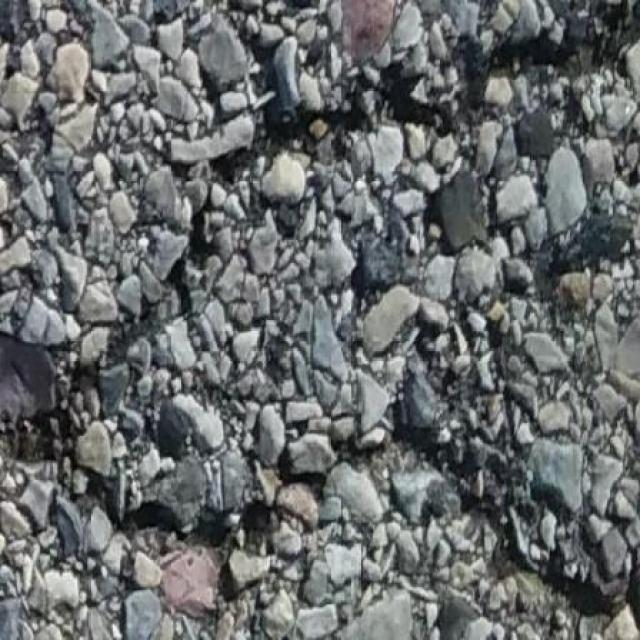Crack: (0, 7, 626, 459), (288, 411, 640, 609), (89, 468, 264, 542)
